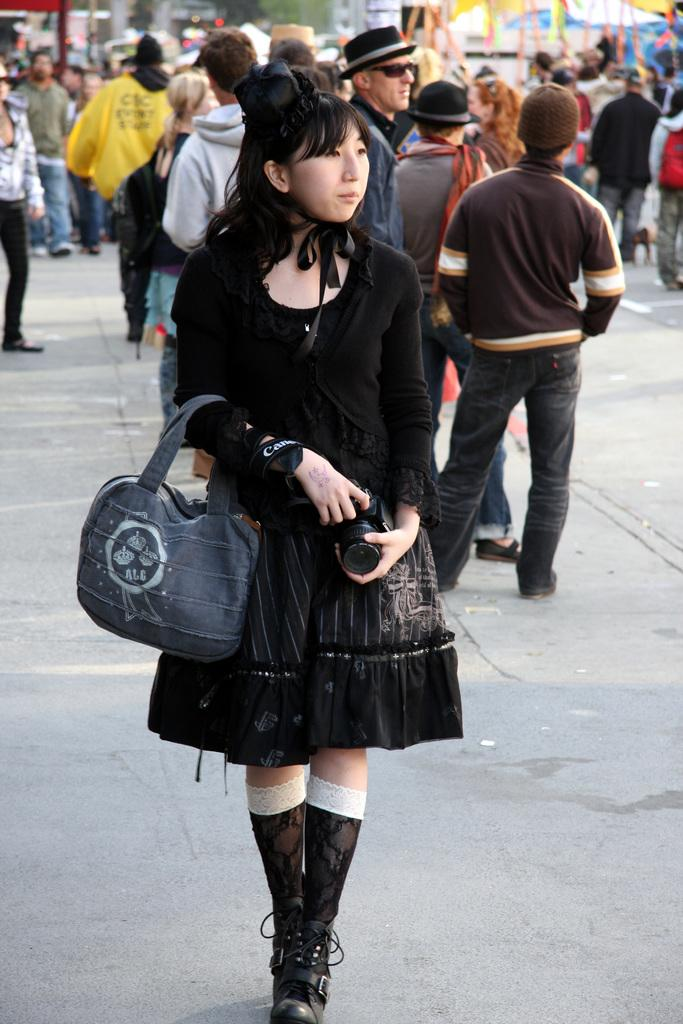Luggage-and-bags: (88, 418, 274, 670), (110, 139, 183, 268), (659, 118, 682, 189)
